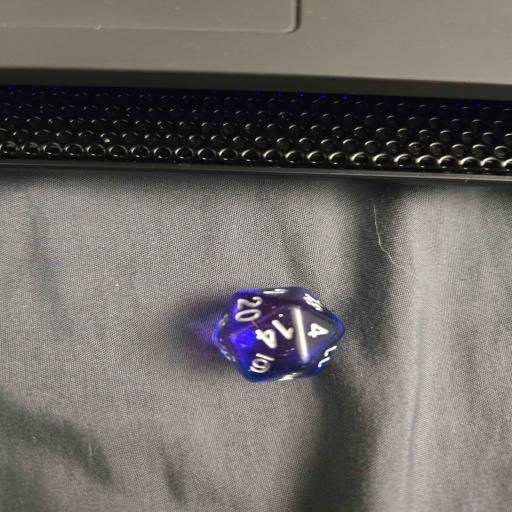twenty sided dice: (211, 286, 344, 384)
